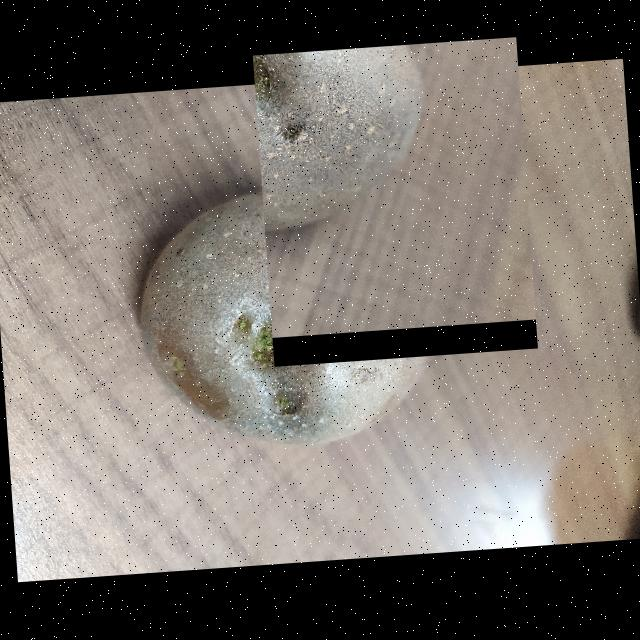Damaged potato: (252, 36, 538, 366)
